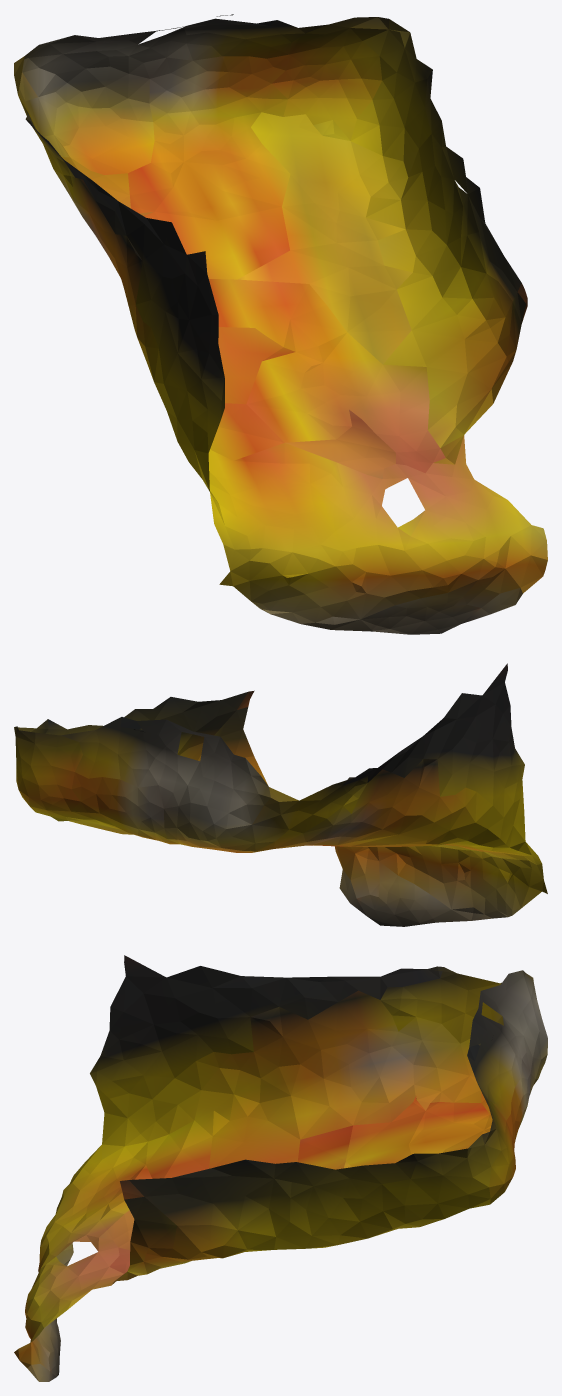
File: texturedMesh.obj
The picture shows the model from 3 angles, top to bottom: view 1: azimuth 30°, elevation 25°; view 2: azimuth 150°, elevation 25°; view 3: azimuth 270°, elevation 25°; orthographic projection. The views are drawn at different scales.
Parts seen in each view (by area): view 1: TexturedMesh; view 2: TexturedMesh; view 3: TexturedMesh.
Part boxes in pixels (left/top/right/bottom): TexturedMesh: left=14, top=14, right=547, bottom=634; TexturedMesh: left=14, top=663, right=547, bottom=926; TexturedMesh: left=14, top=955, right=547, bottom=1381.
Bounding box in the file's own units: 1.07 × 1.04 × 1.38.
Materials: 1 (1 with a texture image).
